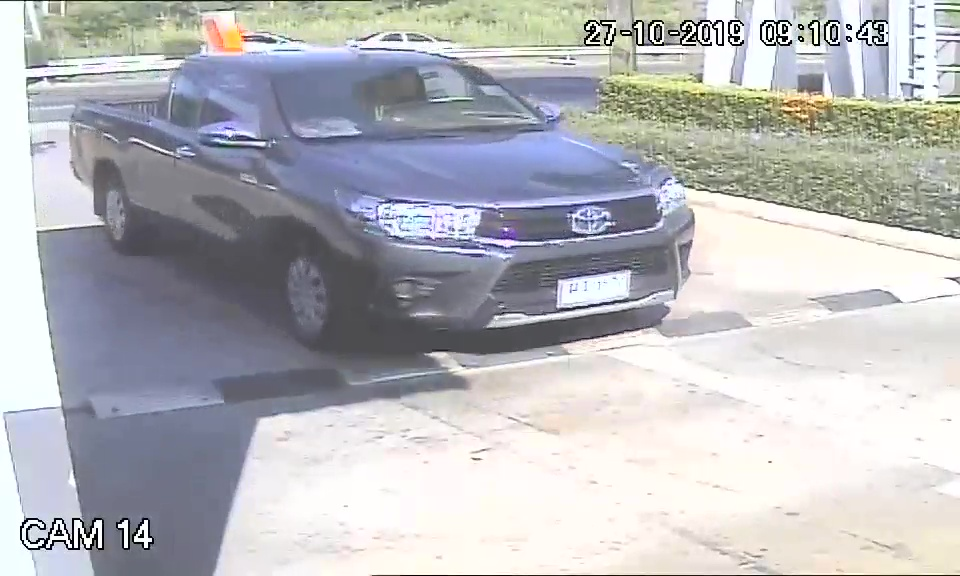pickup: (70, 48, 699, 357)
